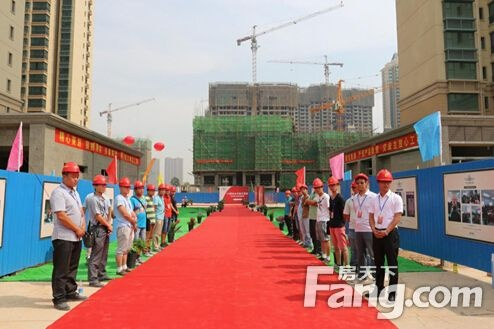red: (59, 161, 82, 188), (373, 167, 393, 194), (352, 171, 369, 193), (91, 173, 107, 195), (117, 177, 131, 197), (325, 175, 339, 194), (311, 176, 324, 195), (133, 178, 144, 196), (144, 181, 156, 197), (156, 183, 167, 198), (299, 183, 309, 197), (168, 183, 176, 196)
